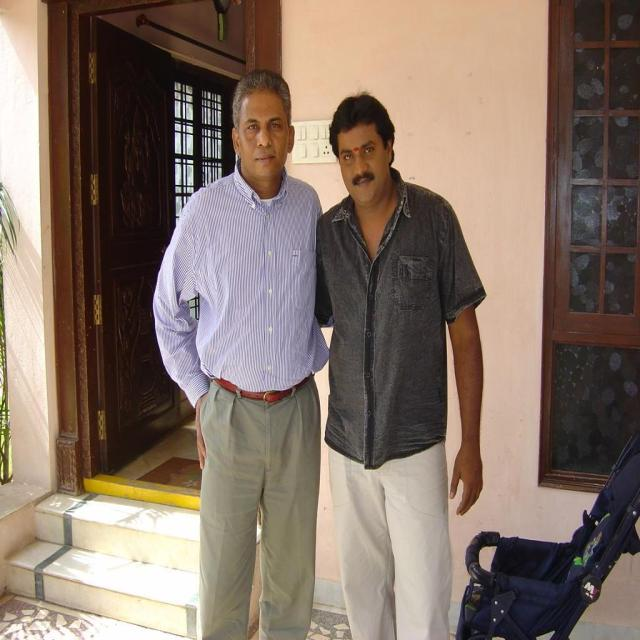Face: (244, 88, 290, 182), (337, 126, 385, 197)
